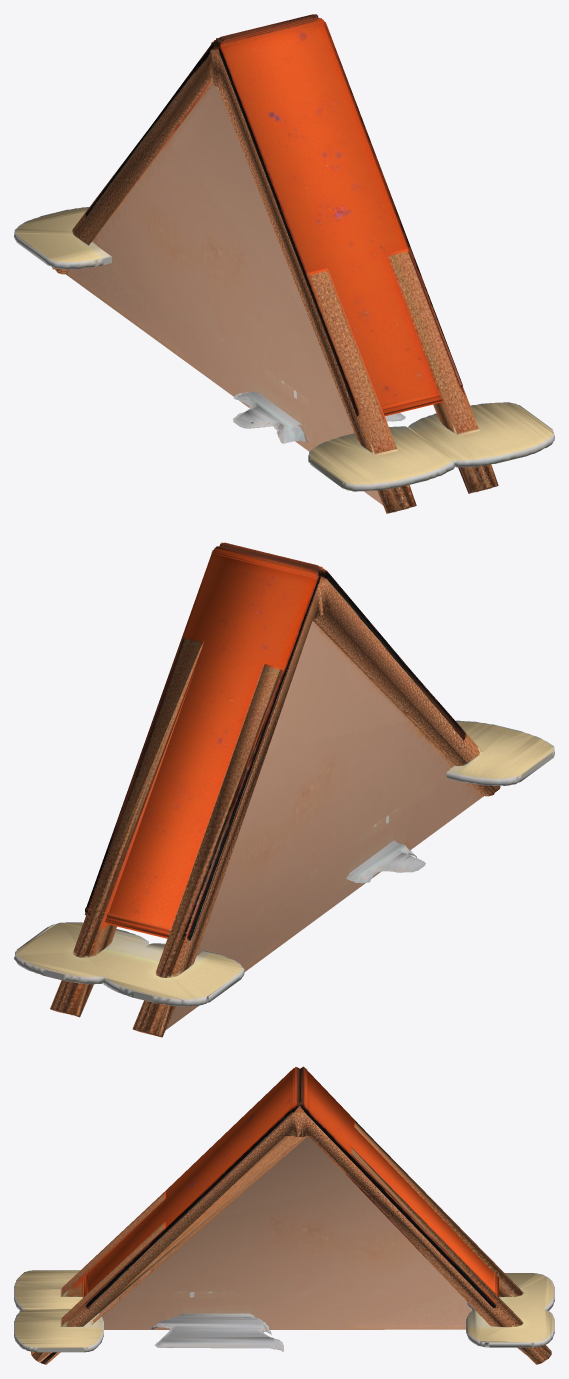
Rendered from playgroundladder.glb.
3 views of the same model, one above another, from view 1: azimuth 30°, elevation 25°; view 2: azimuth 150°, elevation 25°; view 3: azimuth 270°, elevation 25° (orthographic). The views are drawn at different scales.
Visible parts, largest first — view 1: tripo_node_50772b96-0987-4f1b-8b16-b47bd7580c82; view 2: tripo_node_50772b96-0987-4f1b-8b16-b47bd7580c82; view 3: tripo_node_50772b96-0987-4f1b-8b16-b47bd7580c82.
Boxes of the visible parts, box(x1,y1,x2,y2) form: tripo_node_50772b96-0987-4f1b-8b16-b47bd7580c82: box(14, 14, 554, 513); tripo_node_50772b96-0987-4f1b-8b16-b47bd7580c82: box(14, 542, 554, 1037); tripo_node_50772b96-0987-4f1b-8b16-b47bd7580c82: box(14, 1066, 554, 1364).
Size of the model in its own units: 0.3379 by 0.5371 by 0.998.
Materials: 1 (1 with a texture image).
